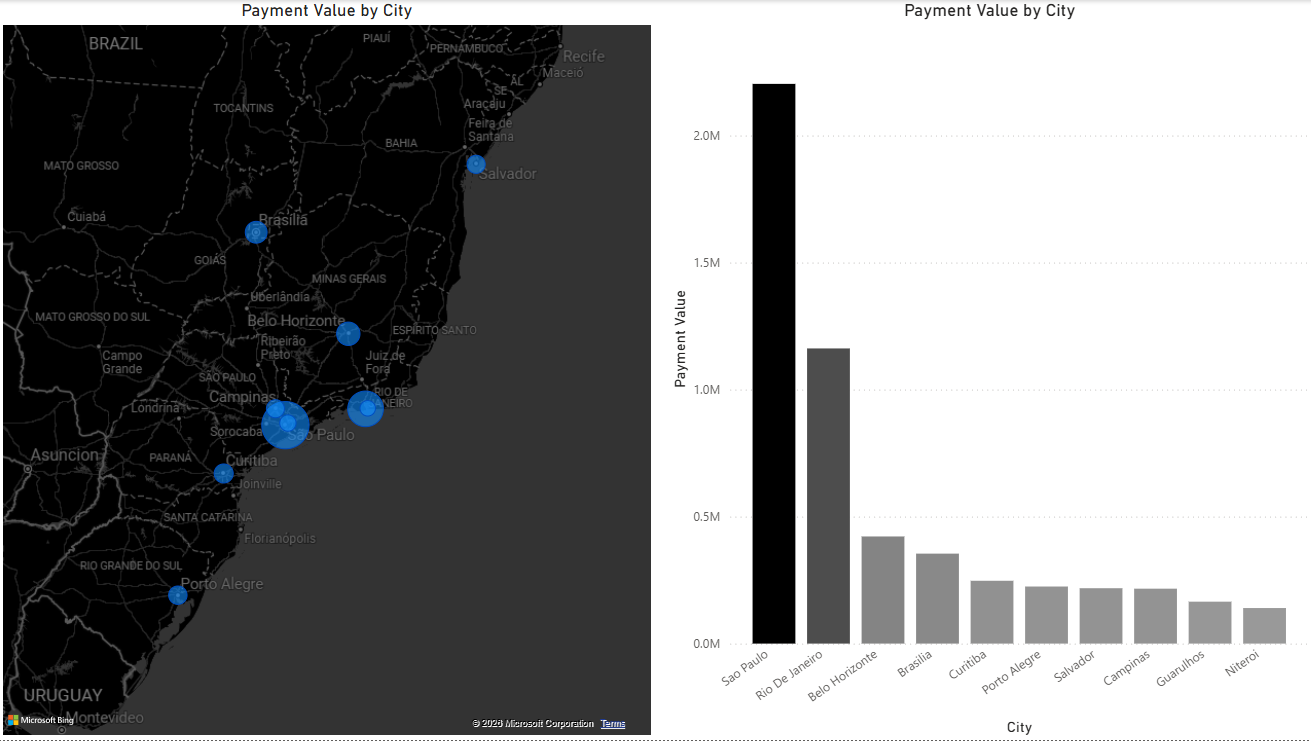

The page's visual inventory and layout, read from the dashboard file:
{"tool":"powerbi","page":{"name":"Transaction Value Per City","canvas":[1280,720],"ordinal":1},"visuals":[{"type":"map","title":"Payment Value by City","fields":{"Category":["public transaction_value_by_region.city"],"Size":["Sum(public transaction_value_by_region.value)"]},"box":[0,0,640,719.8],"z":0},{"type":"clusteredColumnChart","fields":{"Category":["public transaction_value_by_region.city"],"Y":["Sum(public transaction_value_by_region.value)"]},"box":[650,0,630,720],"z":1000}]}

Visuals, with their boxes in screenshot pixels (x1, y1, x2, y2), scaled from the page's 1280x720 canvas onto the 1311x741 screenshot:
"Payment Value by City" map: 0, 0, 656, 740
clusteredColumnChart - public transaction_value_by_region.city x Sum(public transaction_value_by_region.value): 666, 0, 1310, 740
